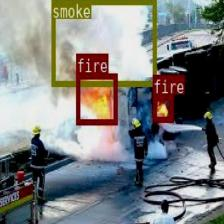fire: (76, 72, 116, 124), (152, 94, 173, 121)
smoke: (50, 0, 156, 85)
